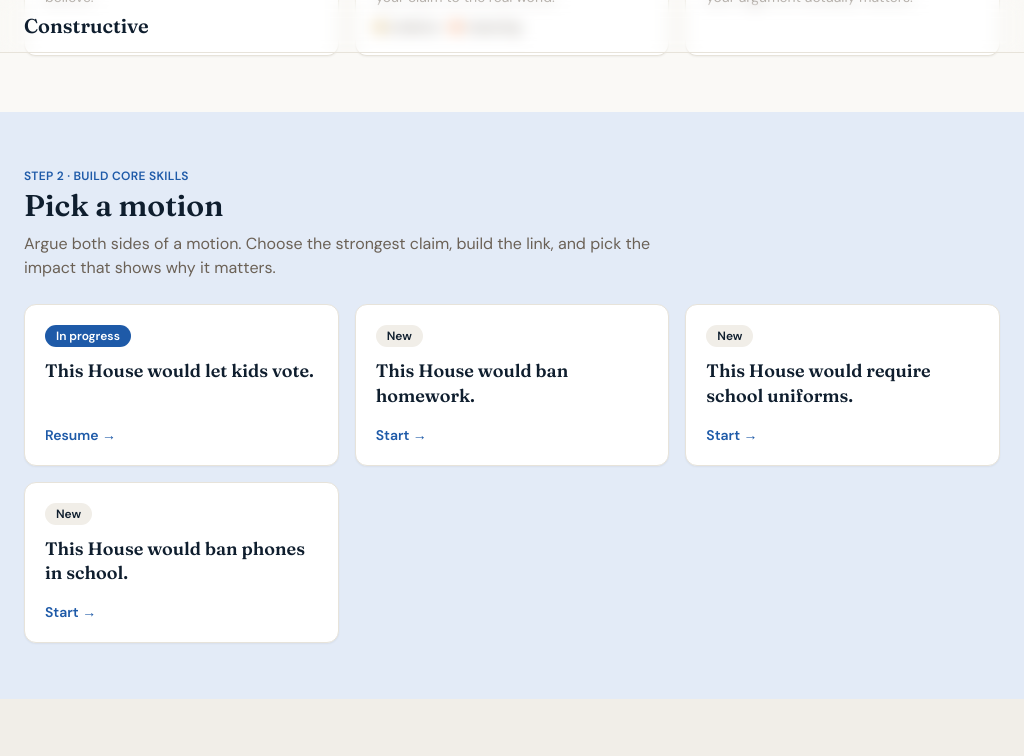
it: FlowDeck › refreshes the deck badge after returning from a motion completed during the journey
The width and height of the screenshot is (1024, 756).
(page scrolled)
expect the text "In progress" is shown: met, box [45,325,131,347]
Click the button "In progress This House would let kids vote. Resume →" at x=181, y=385, box [24,304,339,466]
(page scrolled)
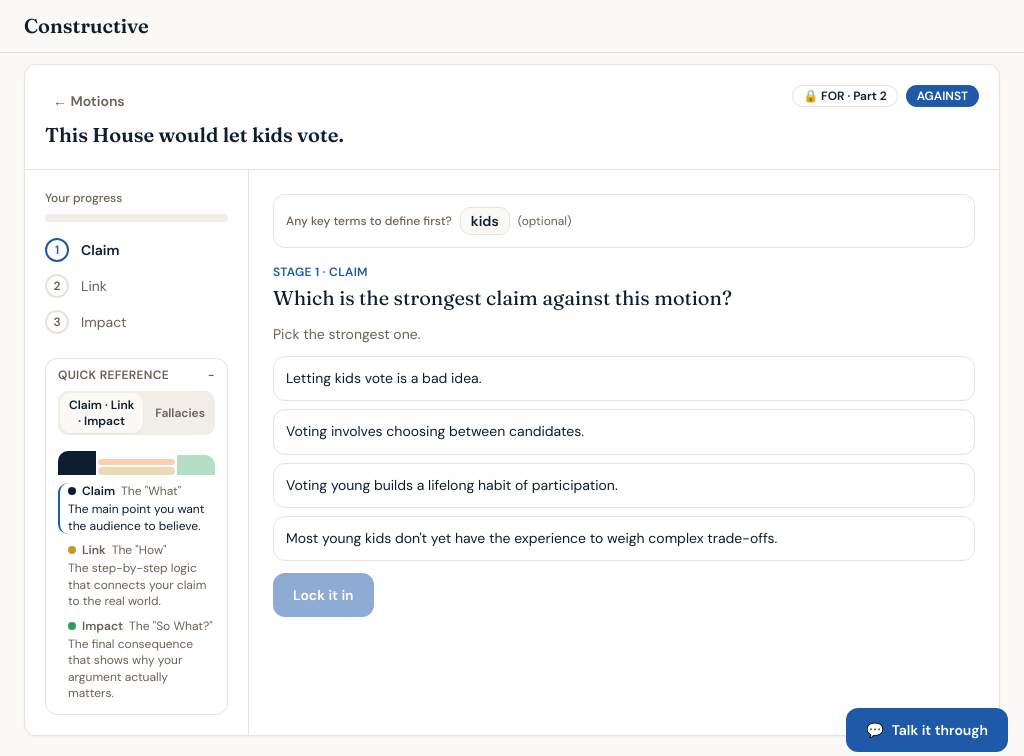
Note: Exit back to the deck without a remount.
Click the button "← Motions" at x=89, y=101, box [45,85,133,117]
(page scrolled)
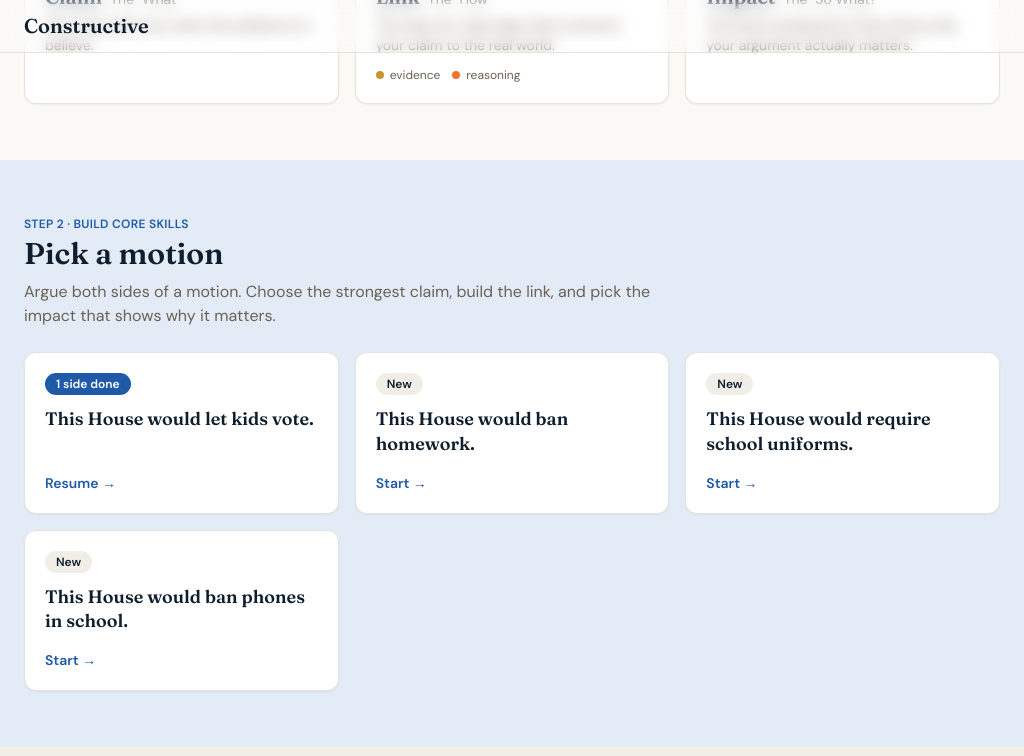
expect the button "In progress" is not shown: met
expect the text "1 side done" is shown: met, box [45,373,131,395]
